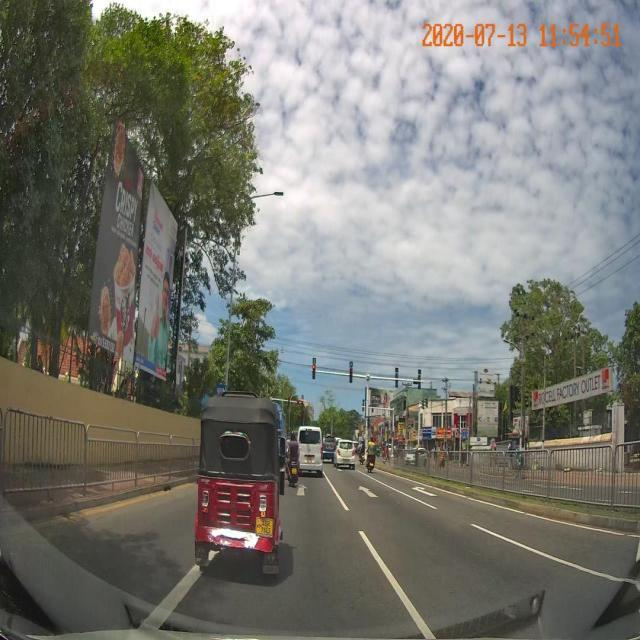Liniya 1: (374, 468, 640, 539), (468, 521, 636, 583), (358, 530, 435, 640), (133, 549, 223, 628), (38, 483, 196, 528), (355, 469, 438, 511), (323, 470, 351, 511)
Strelka vpered: (359, 485, 379, 497), (295, 484, 308, 496)
Strelka vpravo: (412, 486, 438, 496)
